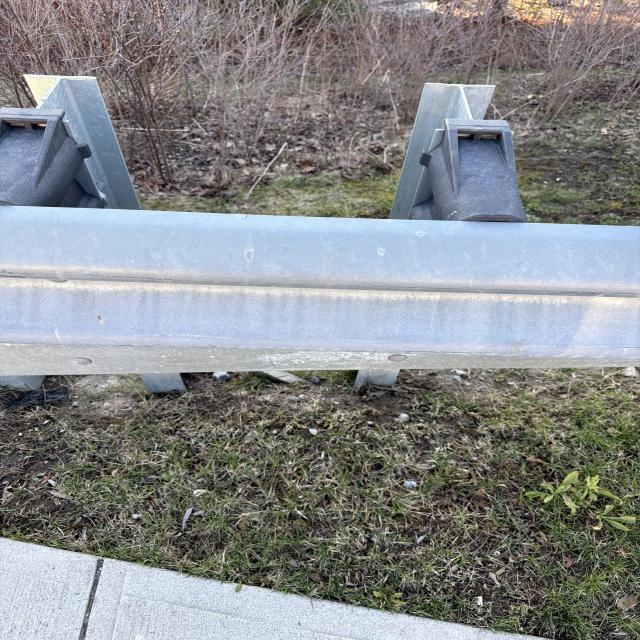Guard rail: (14, 209, 629, 364), (1, 86, 140, 208)
